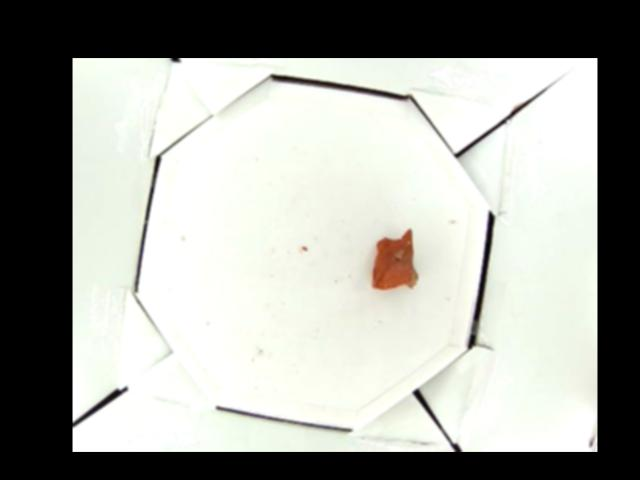Brisk: (372, 230, 419, 290)
